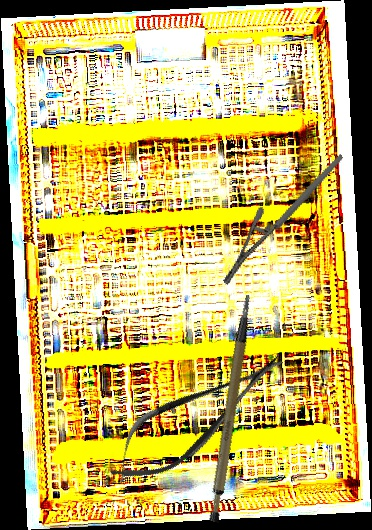Micro Scissor: (93, 334, 301, 501)
Needle Holder: (196, 153, 371, 287)
Scalpel Handle: (178, 293, 289, 525)
